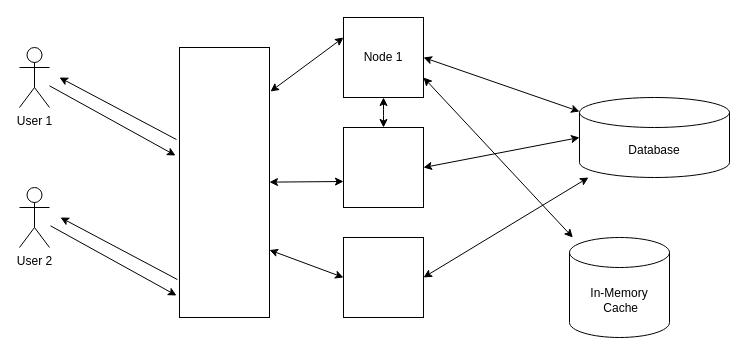
This 747x355 diagram has some shape labels left out. The centre of each missing label's shape, as x and y in pixels:
Load Balancer: point 224,182
Node 2: point 383,167
Node N: point 383,277
